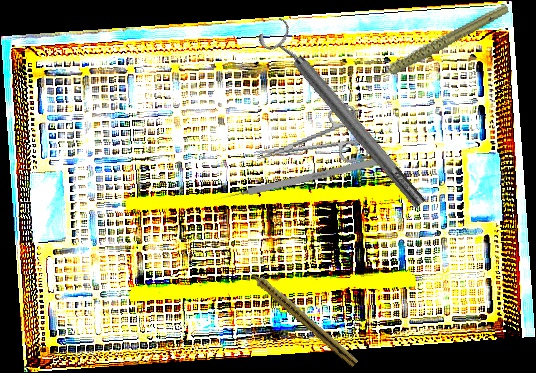Fixation Ring: (255, 14, 434, 218)
Handpiece: (357, 3, 517, 82), (242, 263, 361, 368)
Hook Surgical: (213, 154, 391, 204)
Iris Scissors: (250, 102, 369, 182)
